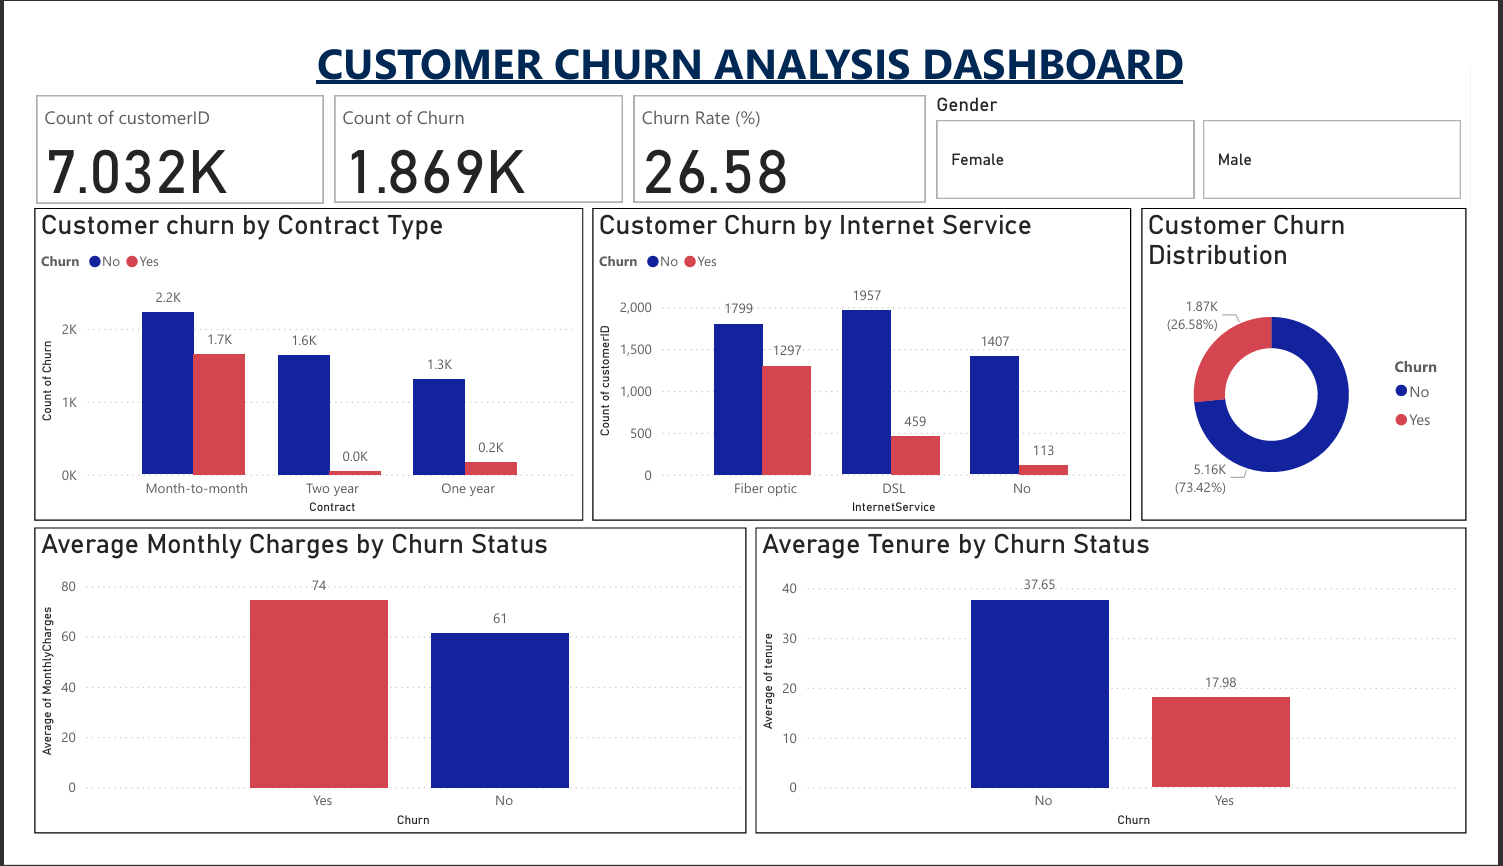

What the dashboard file says about the page in this screenshot:
{"tool":"powerbi","page":{"name":"Dashboard","canvas":[1280,720],"ordinal":0},"visuals":[{"type":"cardVisual","title":"TOTAL CUSTOMERS","fields":{"Data":["CountNonNull(Sheet1.customerID)"]},"box":[0,55,265,106],"z":0},{"type":"cardVisual","title":"CHURNED CUSTOMERS","fields":{"Data":["CountNonNull(Sheet1.Churn)"]},"box":[265.1,54.7,266.3,105.8],"z":1000},{"type":"cardVisual","title":"CHURN RATE","fields":{"Data":["CustomerChurn.Churn Rate (%)"]},"box":[531.4,54.7,268.6,105.8],"z":2000},{"type":"clusteredColumnChart","title":"Customer churn by Contract Type","fields":{"Category":["CustomerChurn.Contract"],"Y":["CountNonNull(CustomerChurn.Churn)"],"Series":["CustomerChurn.Churn"]},"box":[3.5,160.5,487.2,277.9],"z":3000},{"type":"clusteredColumnChart","title":"Customer Churn by Internet Service","fields":{"Category":["CustomerChurn.InternetService"],"Y":["CountNonNull(CustomerChurn.customerID)"],"Series":["CustomerChurn.Churn"]},"box":[498.8,160.5,479.1,277.9],"z":4000},{"type":"clusteredColumnChart","title":"Average Monthly Charges by Churn Status","fields":{"Category":["CustomerChurn.Churn"],"Y":["Avg(CustomerChurn.MonthlyCharges)"]},"box":[3.5,444.2,632.6,272.1],"z":5000},{"type":"clusteredColumnChart","title":"Average Tenure by Churn Status","fields":{"Category":["CustomerChurn.Churn"],"Y":["Avg(CustomerChurn.tenure)"]},"box":[644.2,444.2,631.4,272.1],"z":6000},{"type":"advancedSlicerVisual","title":"Gender","fields":{"Values":["CustomerChurn.gender"]},"box":[800,58.1,475.6,100],"z":7000},{"type":"donutChart","title":"Customer Churn Distribution","fields":{"Category":["CustomerChurn.Churn"],"Y":["CountNonNull(CustomerChurn.customerID)"]},"box":[987.2,160.5,288.4,277.9],"z":8000},{"type":"textbox","box":[3.4,0,1272.5,59.7],"z":9000}]}

Visuals, with their boxes in screenshot pixels (x1, y1, x2, y2), scaled from the page's 1280x720 canvas onto the 1503x866 screenshot:
"TOTAL CUSTOMERS" cardVisual: Rect(0, 66, 311, 194)
"CHURNED CUSTOMERS" cardVisual: Rect(311, 66, 624, 193)
"CHURN RATE" cardVisual: Rect(624, 66, 939, 193)
"Customer churn by Contract Type" clusteredColumnChart: Rect(4, 193, 576, 527)
"Customer Churn by Internet Service" clusteredColumnChart: Rect(586, 193, 1148, 527)
"Average Monthly Charges by Churn Status" clusteredColumnChart: Rect(4, 534, 747, 862)
"Average Tenure by Churn Status" clusteredColumnChart: Rect(756, 534, 1498, 862)
"Gender" advancedSlicerVisual: Rect(939, 70, 1498, 190)
"Customer Churn Distribution" donutChart: Rect(1159, 193, 1498, 527)
textbox: Rect(4, 0, 1498, 72)
